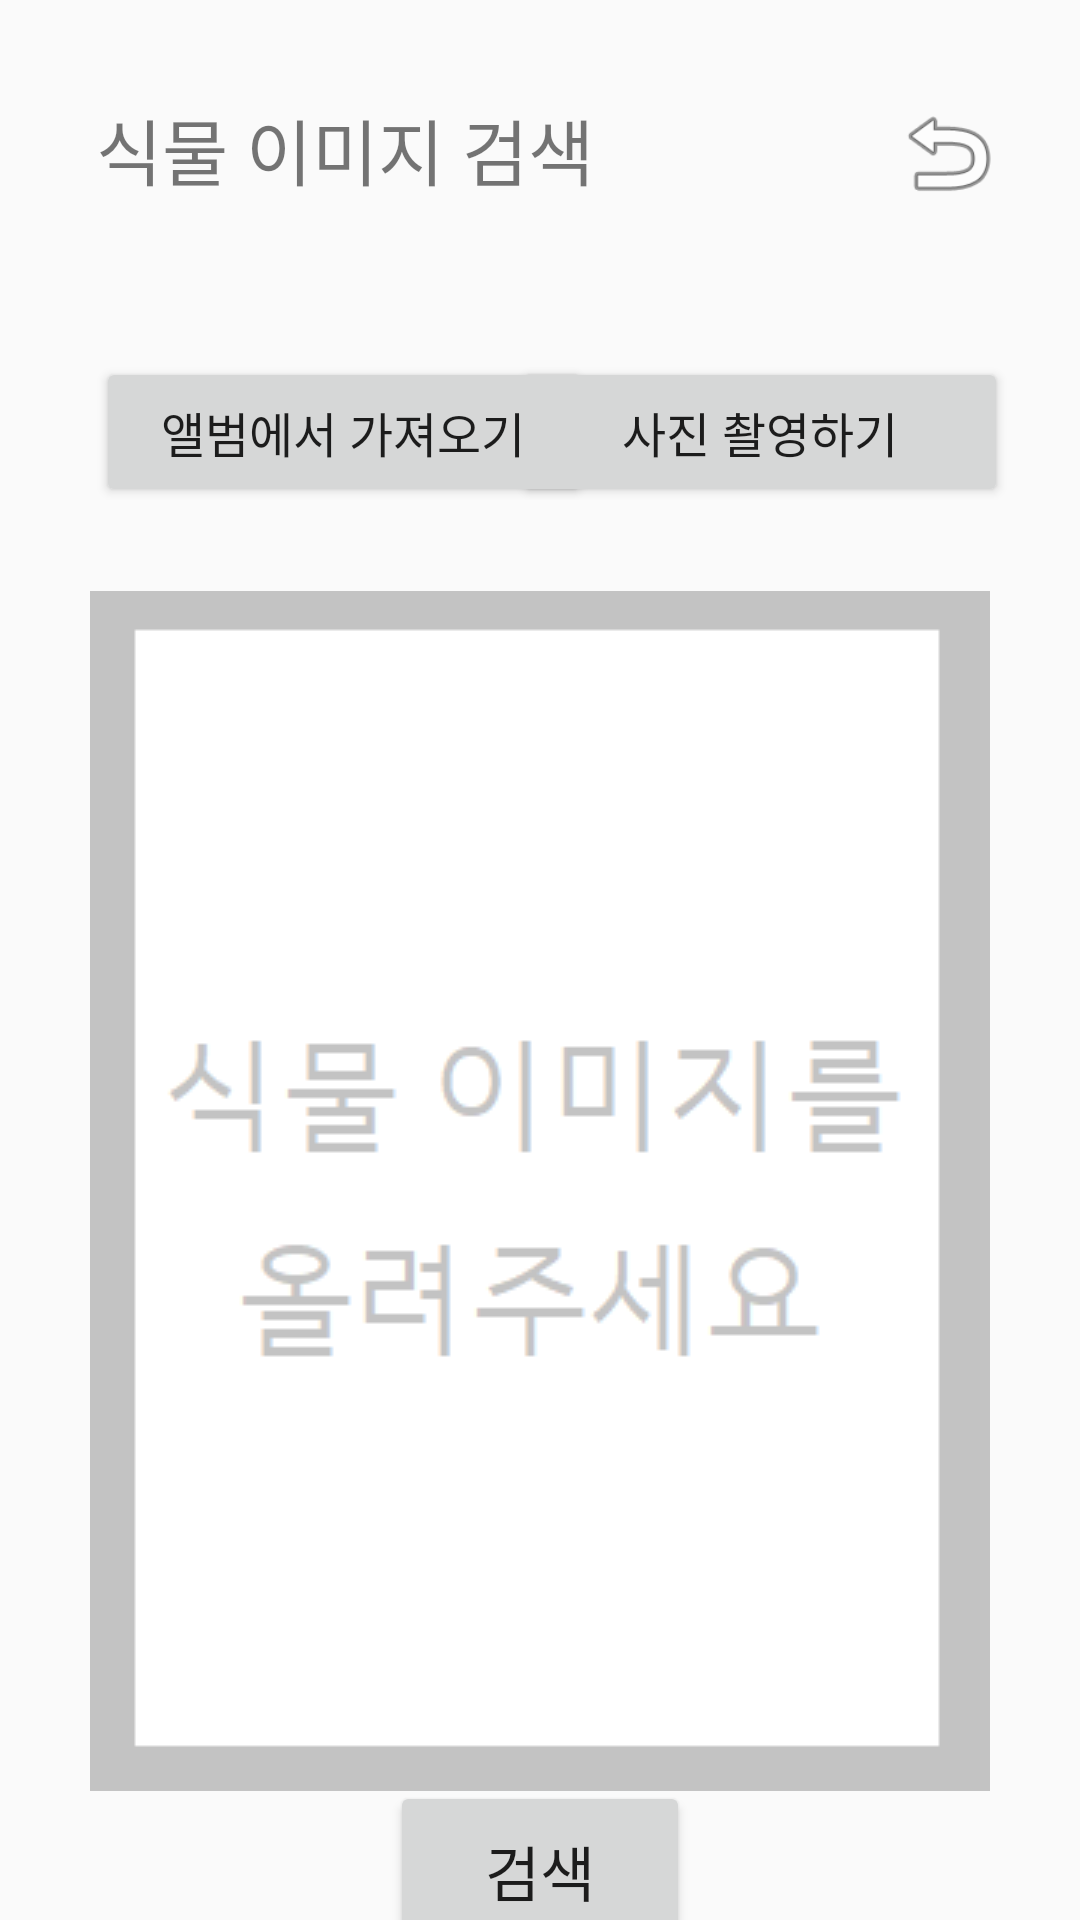

Where icons sit on this 1080*1920 app screen, as (x1, y1, x2, y2):
revert: (908, 117, 991, 191)
